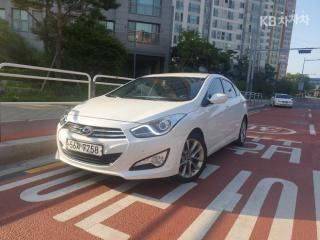5: (69, 140, 73, 149), (90, 145, 94, 153)
6: (73, 141, 76, 149)
7: (82, 143, 86, 152), (86, 144, 90, 153)
8: (94, 145, 99, 155)
plate: (64, 136, 106, 160)
저: (76, 142, 81, 151)
